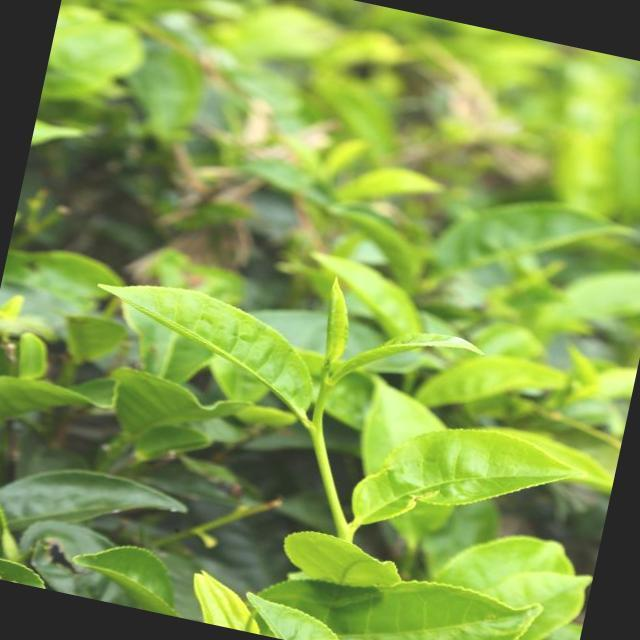Stem: (317, 382, 336, 401)
